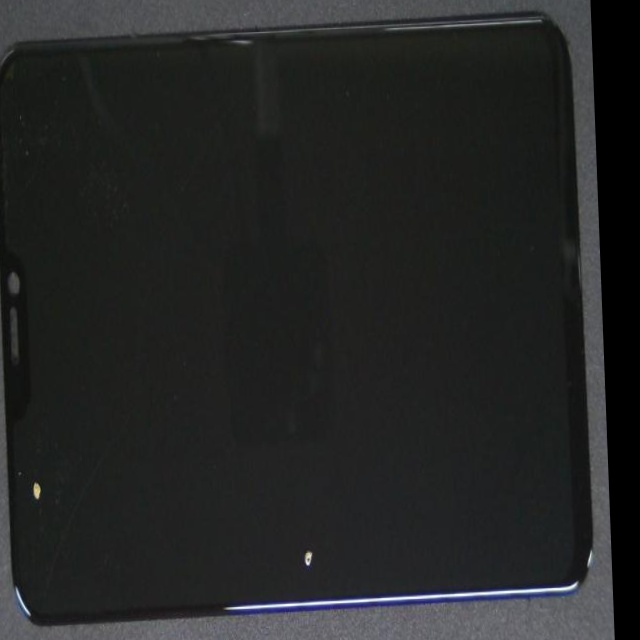stain: (165, 282, 530, 640), (0, 139, 63, 640)
